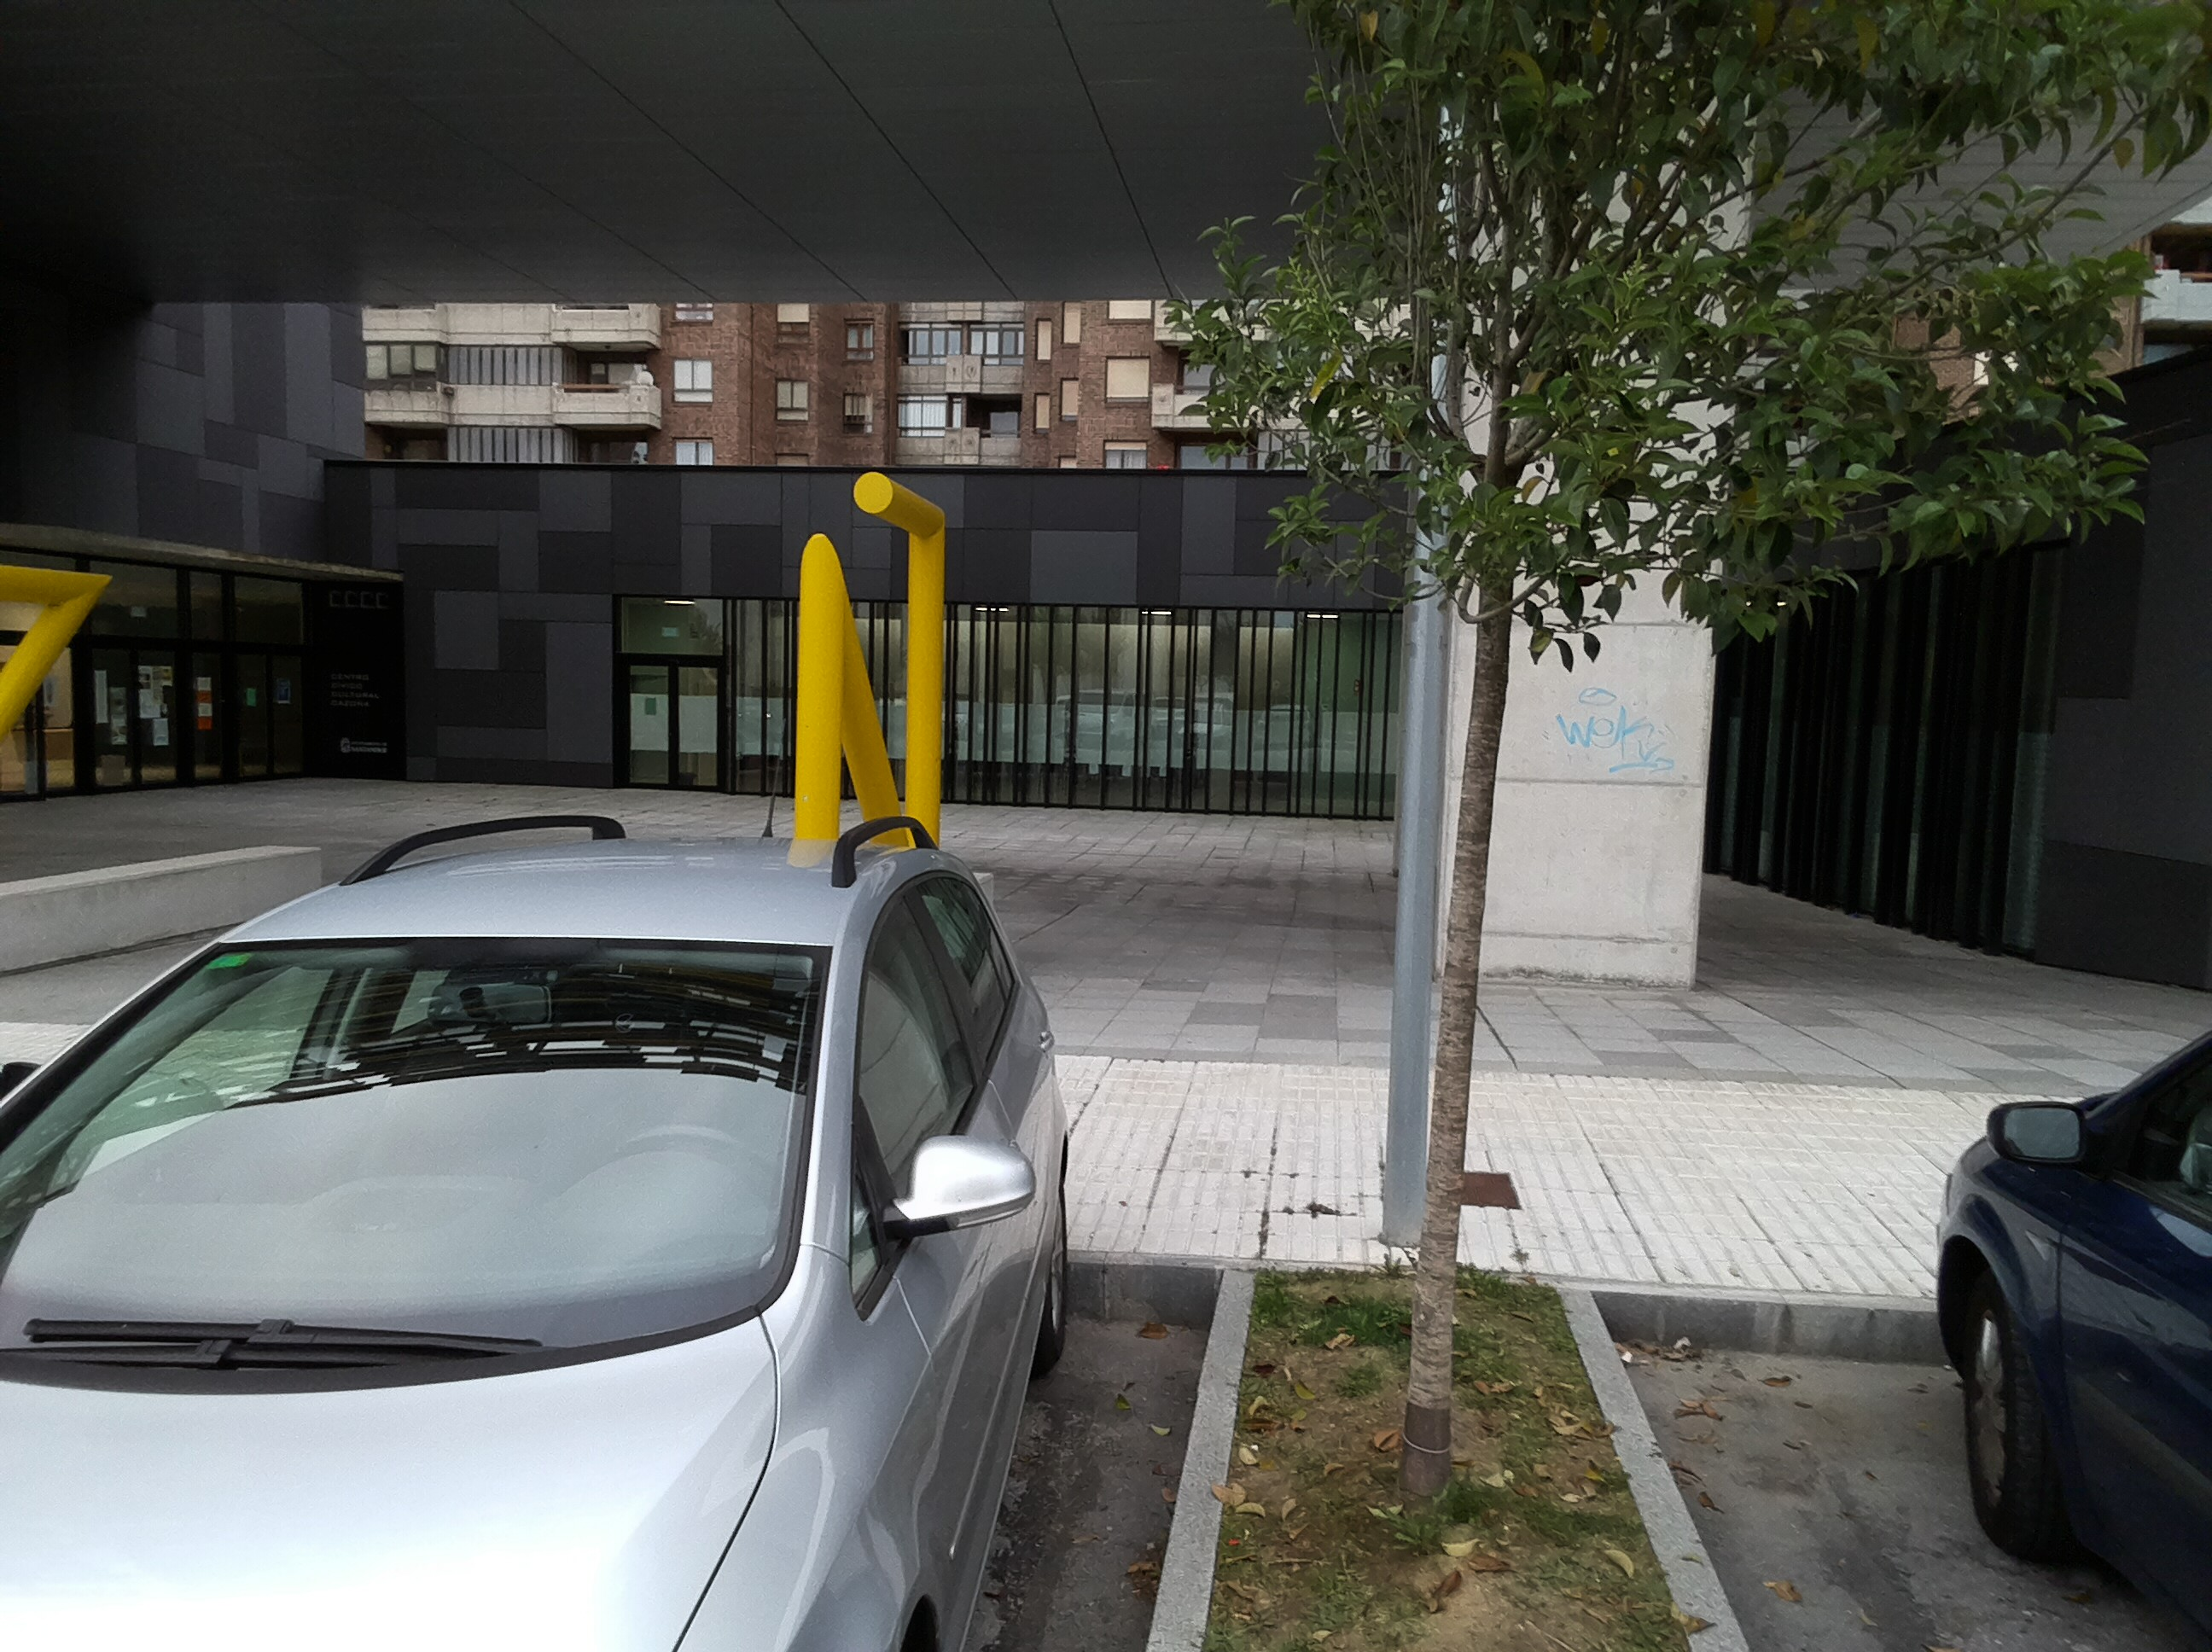Arbol: (1249, 0, 1803, 1496)
Vehiculo: (12, 770, 1086, 1652)
